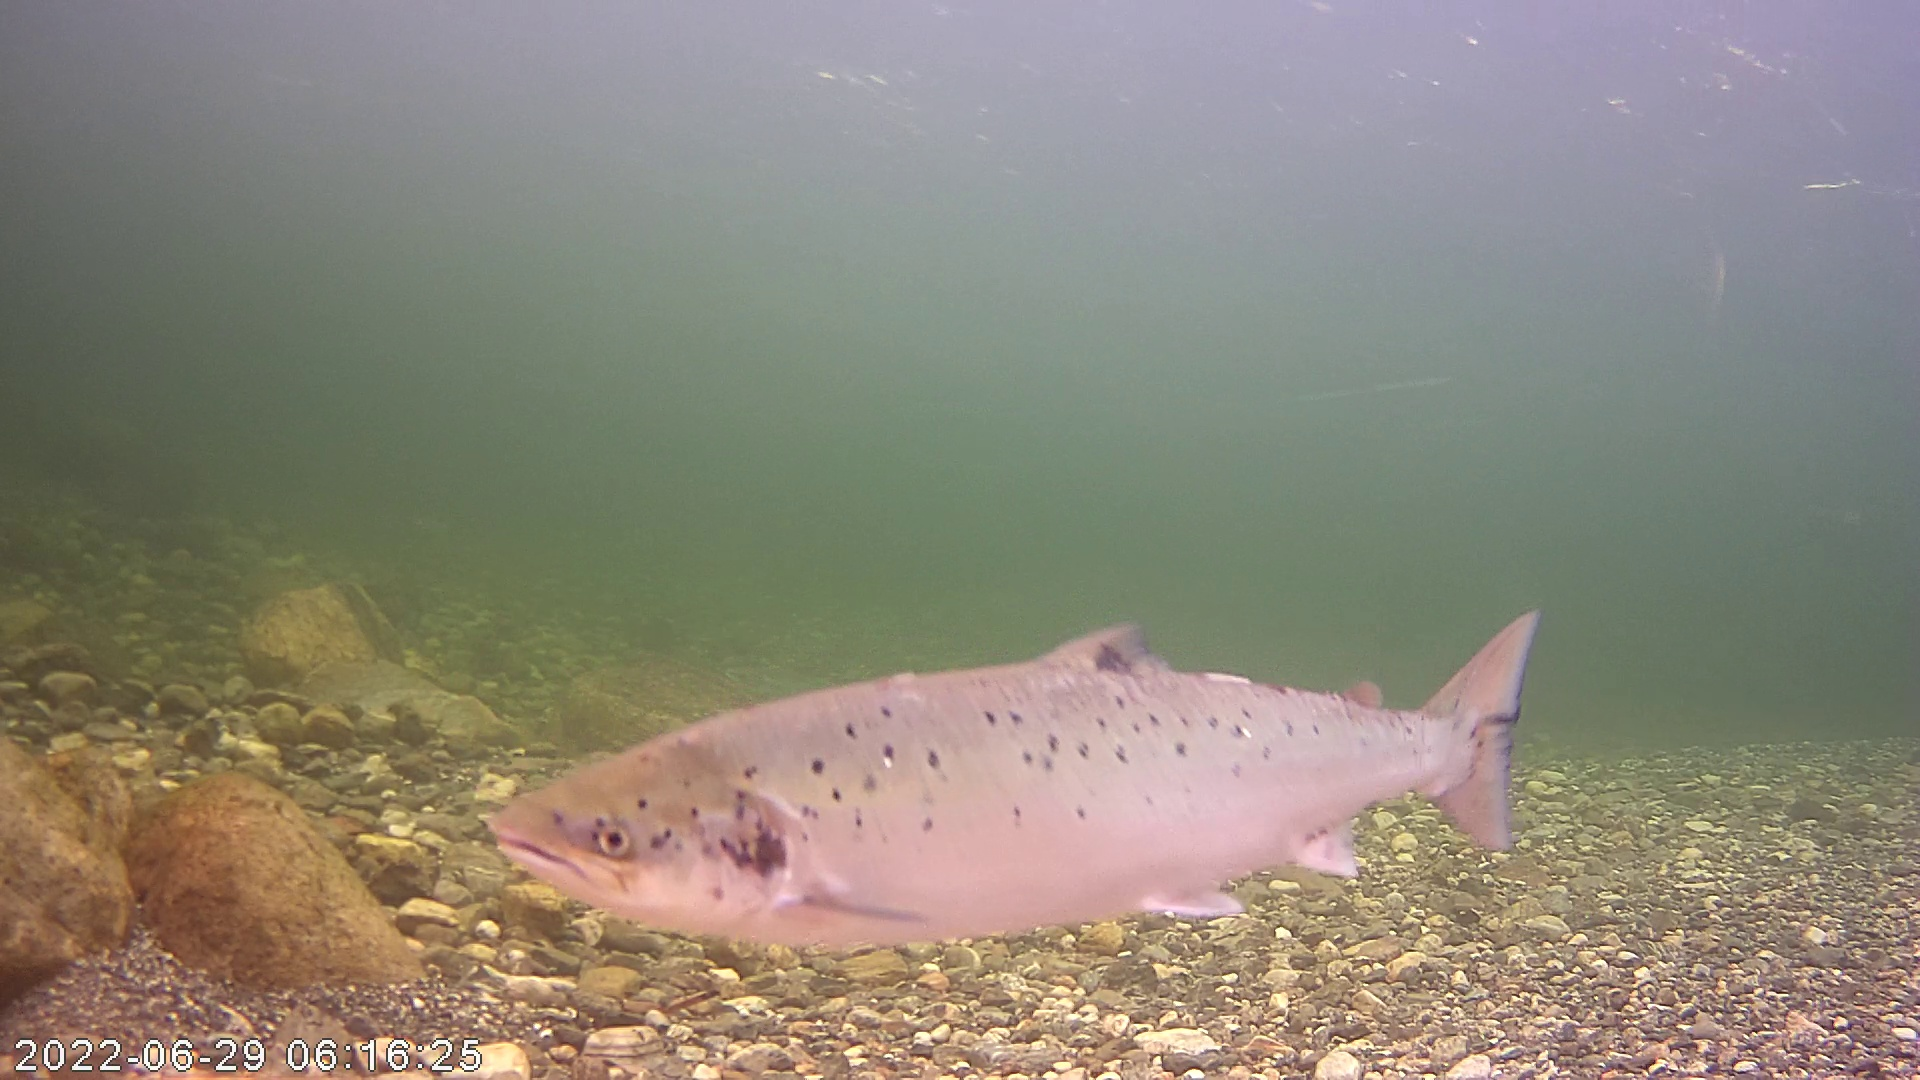salmon: (485, 603, 1542, 952)
